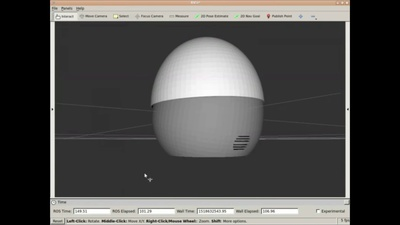mira_robot: (151, 35, 265, 159)
